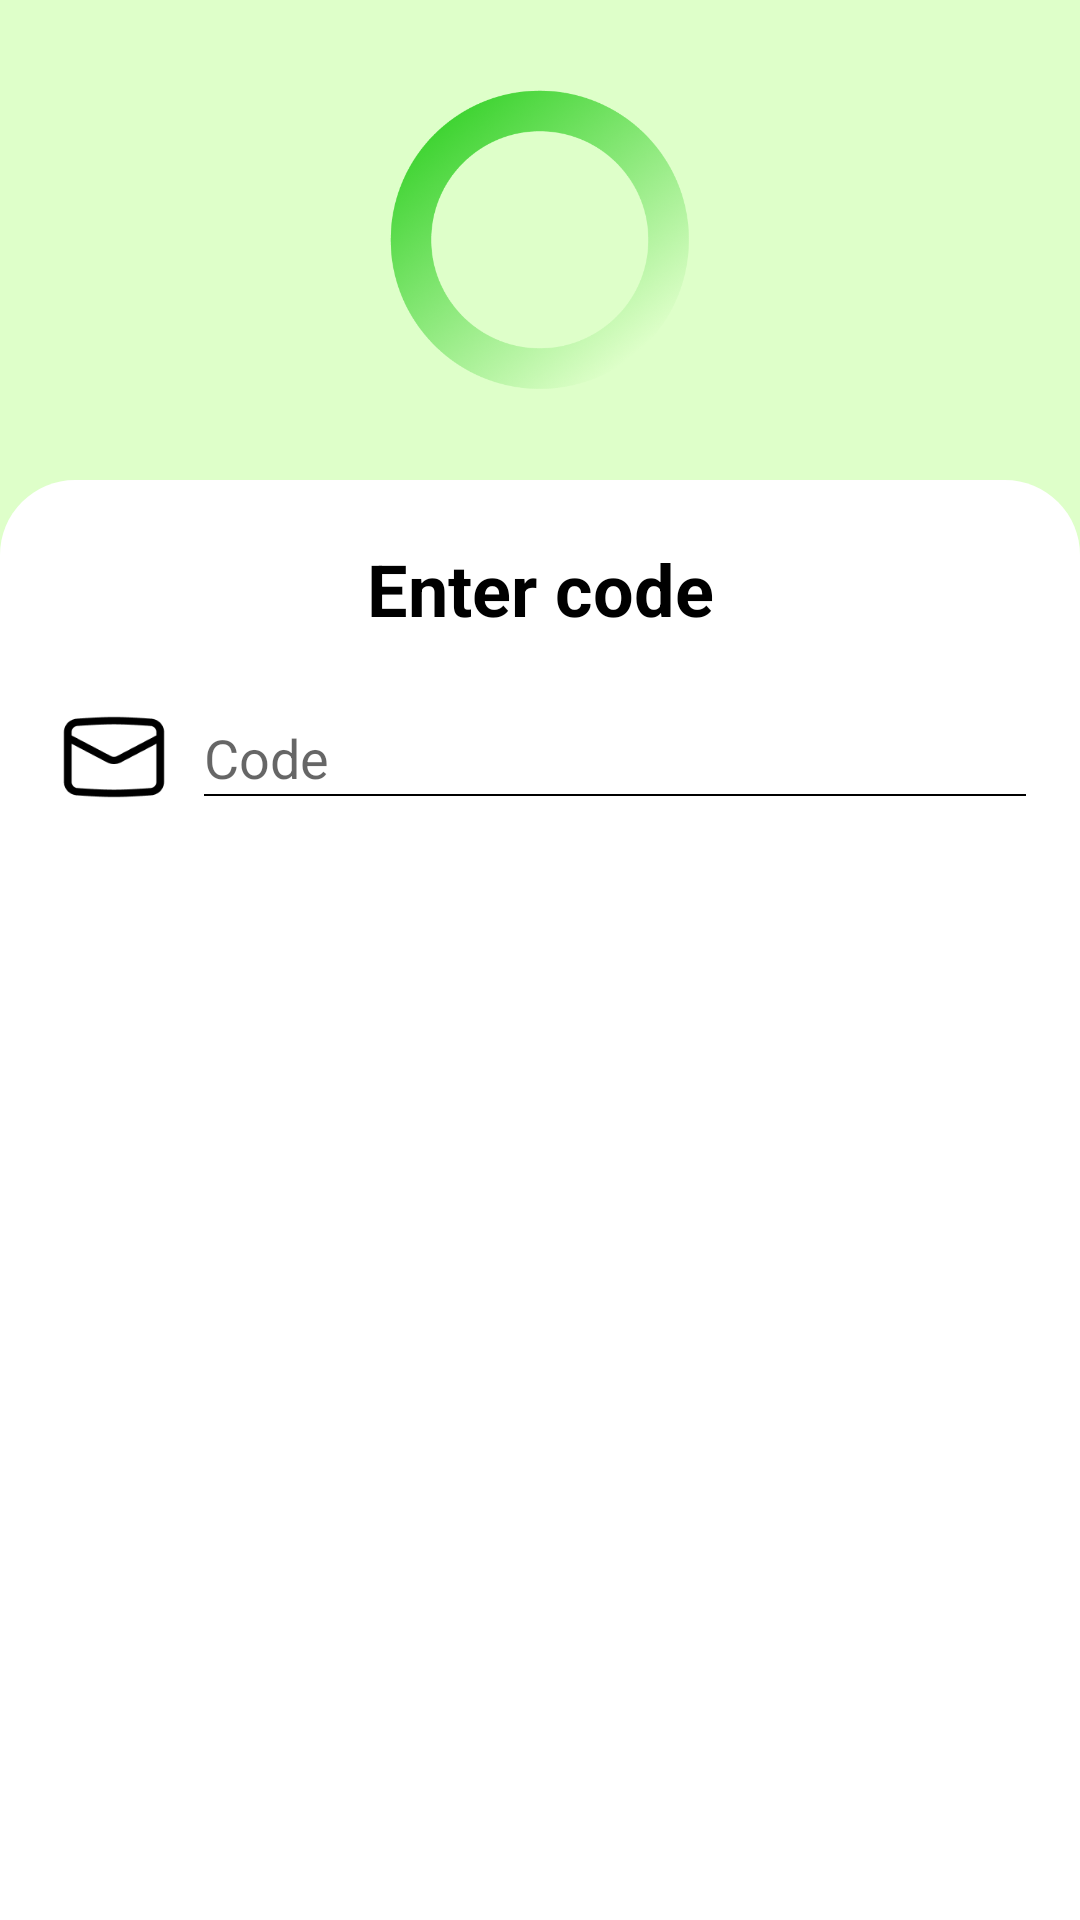

Screen size 1080×1920. Icon name, then its box in pixels as (x1, y1, x2, y2):
message: (63, 716, 165, 798)
